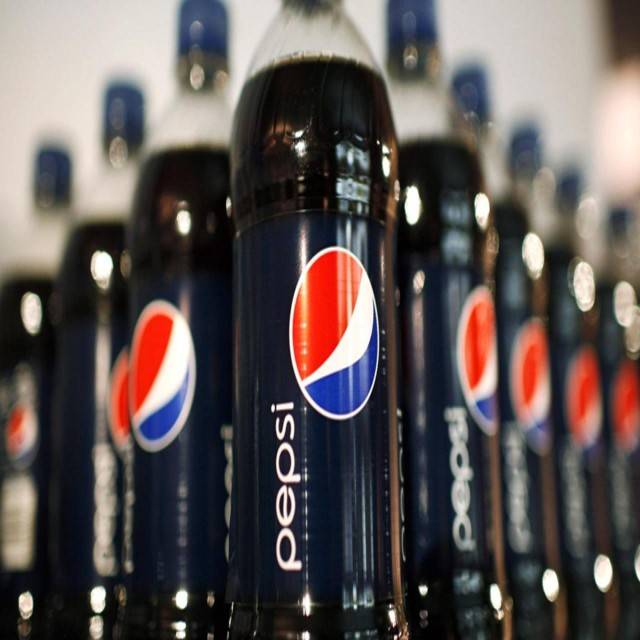pepsi: (290, 243, 382, 421), (127, 296, 200, 453)
